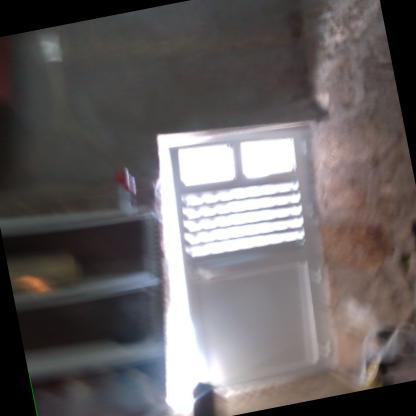closed: (158, 110, 359, 402)
